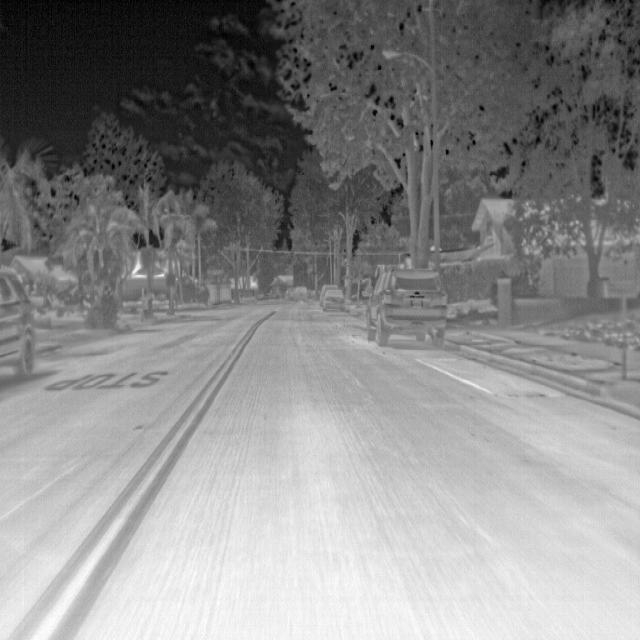Vehicle: (363, 264, 450, 350), (0, 263, 39, 382), (320, 287, 347, 315)
